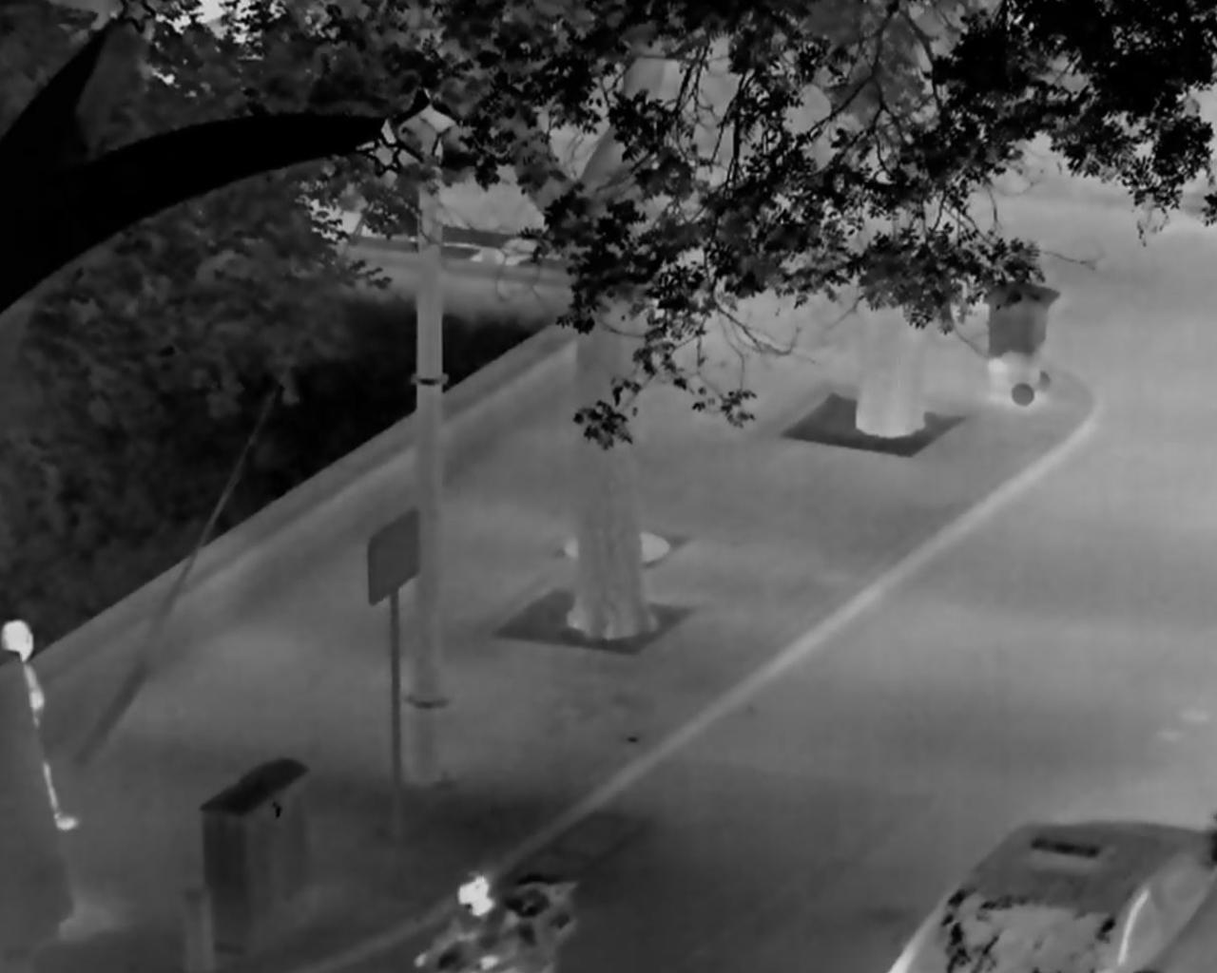person: (413, 868, 527, 973)
